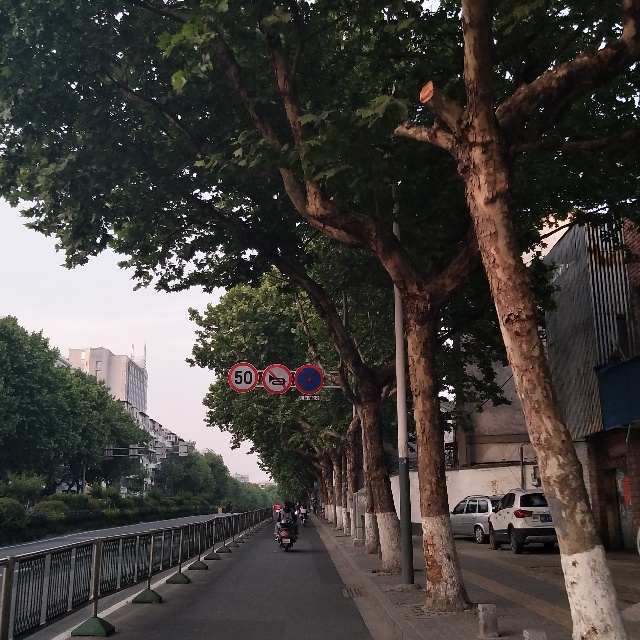nohonk: (262, 363, 293, 395)
stop: (295, 363, 327, 397)
